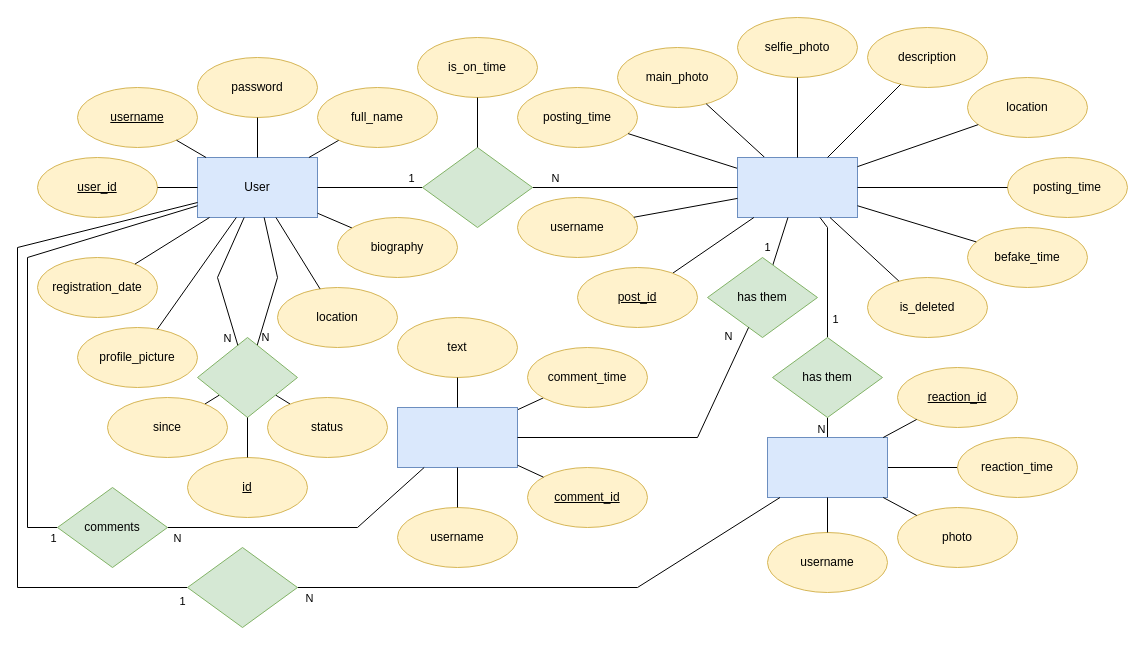
The diagram is 1145 pixels wide and 645 high, and some of its shapes have lost their labels. Here are the shapes that lost their labels. From the top down, the centre of each, then its label:
At (477,187): "posts".
At (797,187): "Post".
At (247,377): "friends".
At (457,437): "Comment".
At (827,467): "Reaction".
At (242,587): "reacts".
